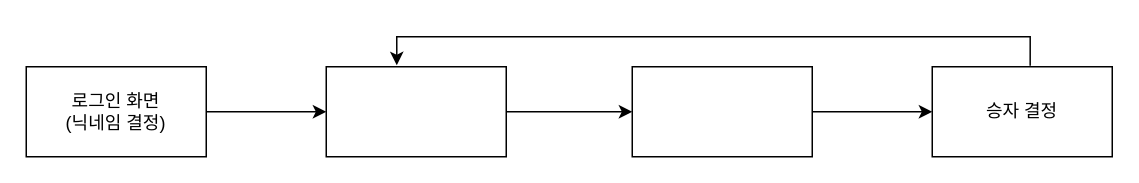
The diagram is 1139 pixels wide and 183 high, and some of its shapes have lost their labels. Each missing label, with the centre of its shape:
"Host가 게임 시작" belongs at [415,111].
"숫자 야구 게임 진행" belongs at [721,111].
